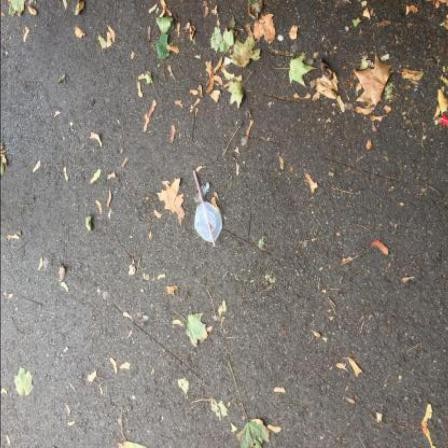Lid: (195, 203, 223, 243)
Straw: (194, 171, 216, 248)
Unlabeled litter: (441, 115, 448, 129)
